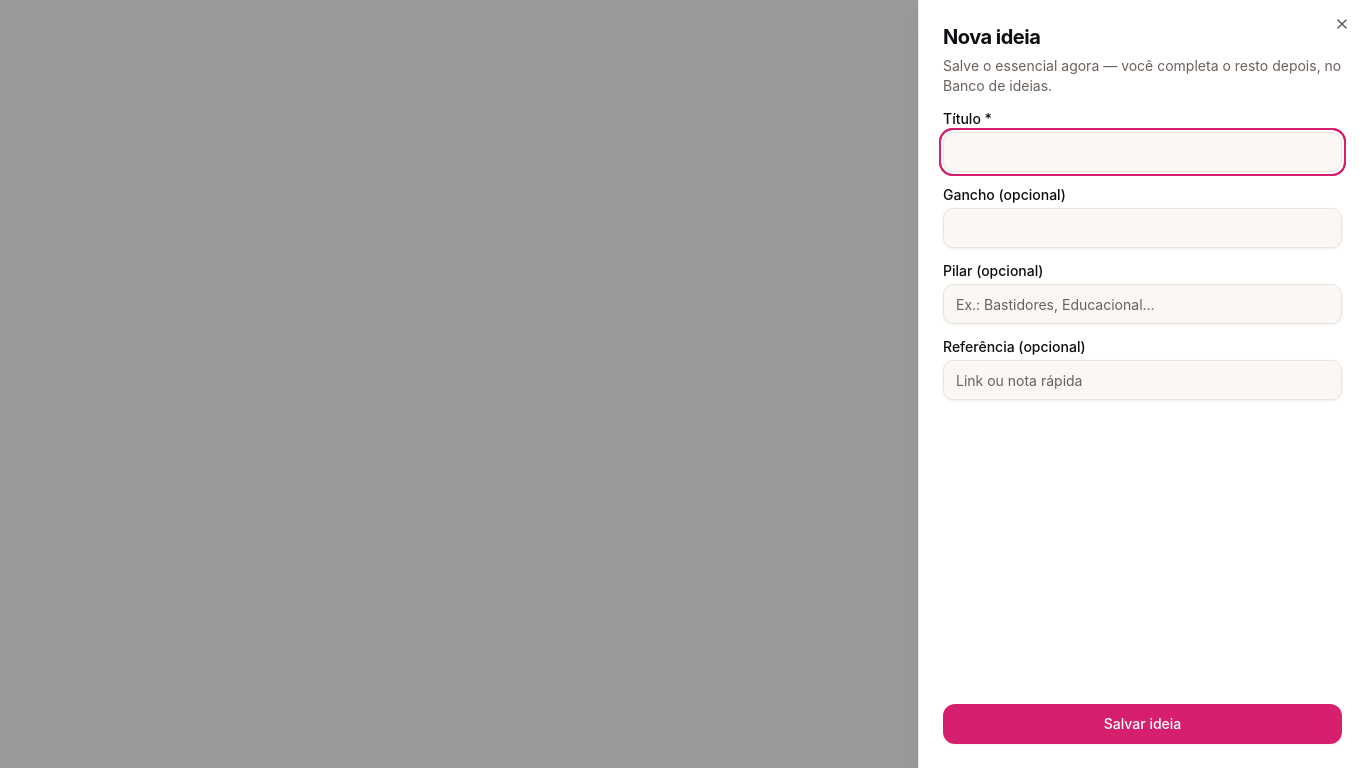
Test: QuickCaptureDrawer › salva a ideia só com o título preenchido (demais campos opcionais)
Type "Bastidores da gravação" into the field labelled "Título *" at (1142, 152), box [943,132,1342,172]
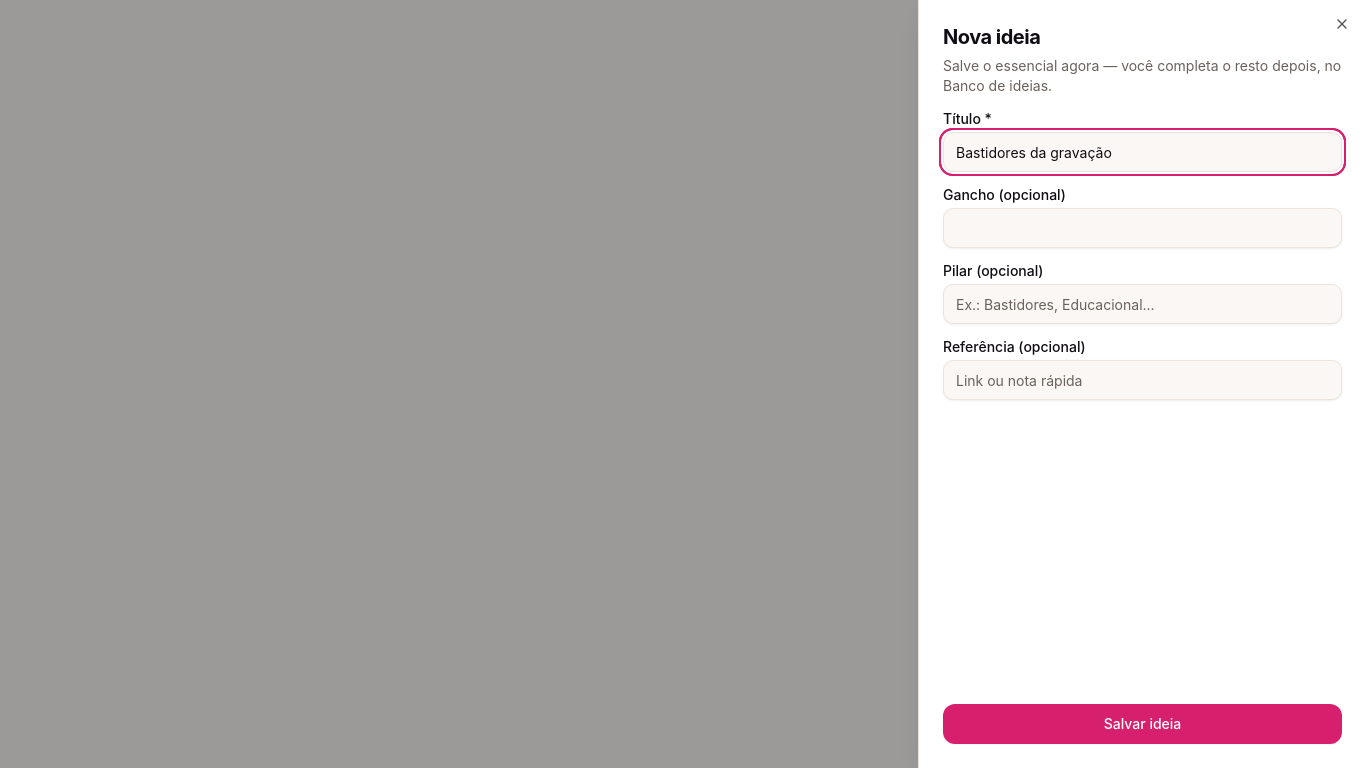
Click the button "Salvar ideia" at (1142, 724), box [943,704,1342,744]
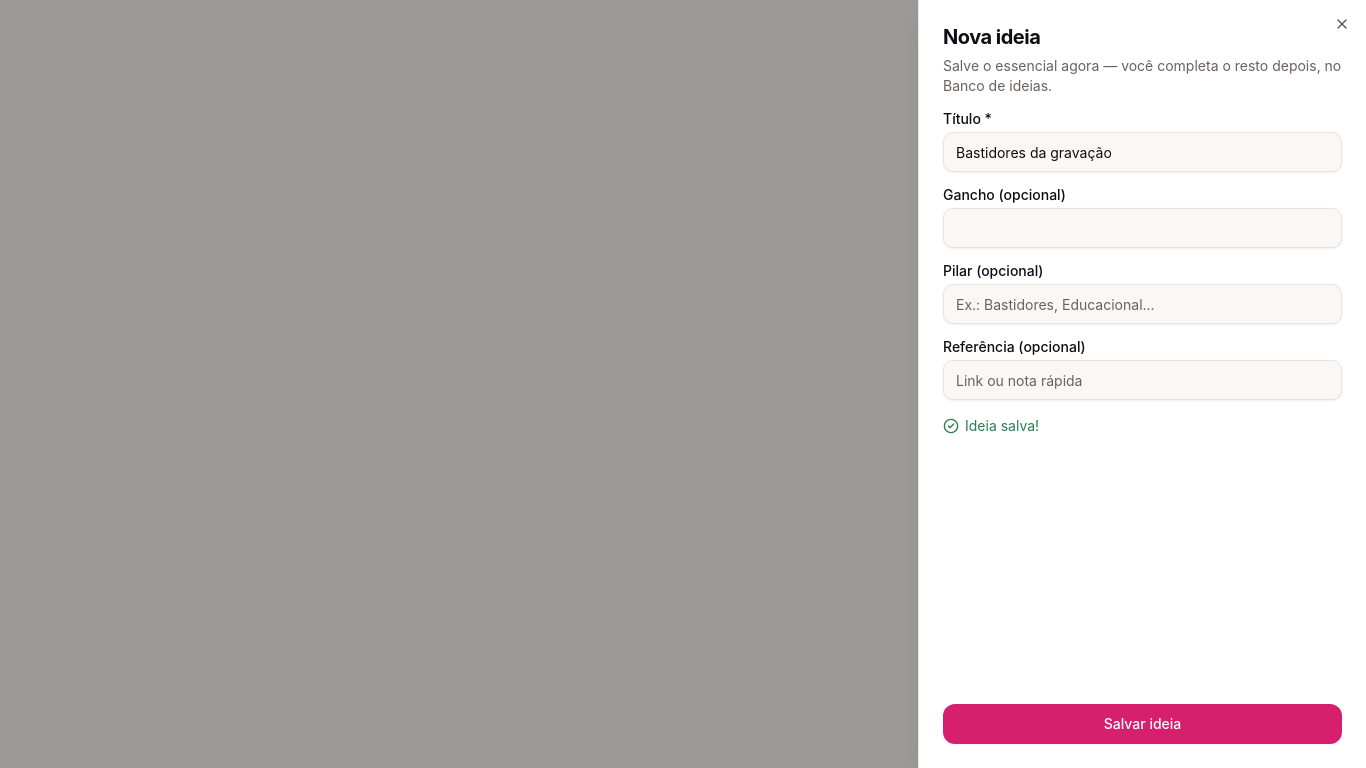
Expected: the text "Ideia salva!" is shown, [943,417,1039,434]
